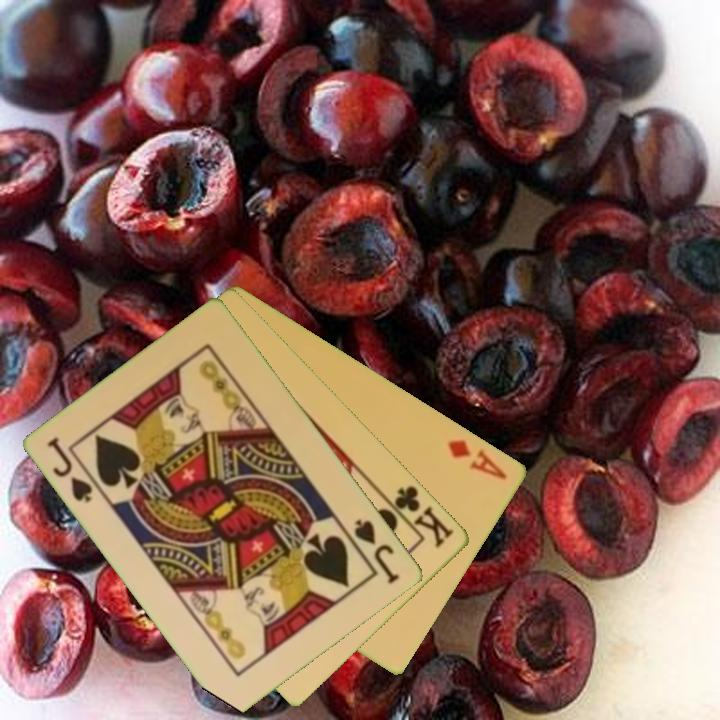Ad: (444, 435, 511, 483)
Js: (44, 433, 105, 506), (351, 515, 404, 587)
Kc: (383, 482, 458, 551)
